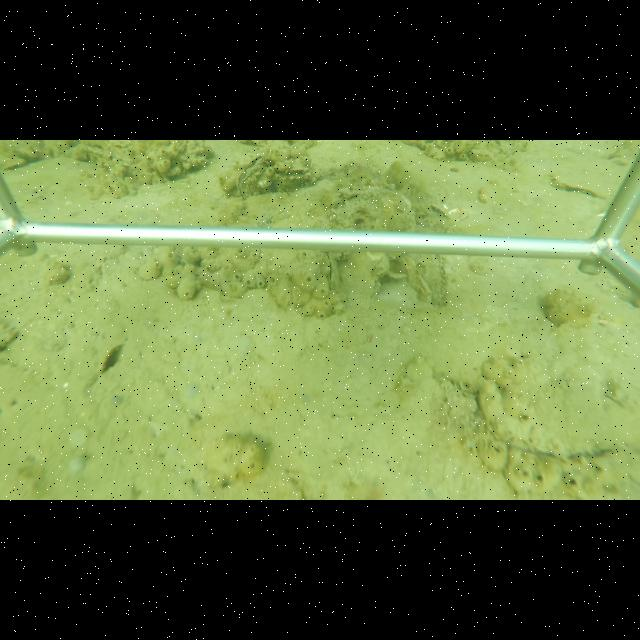Oyster-Closed: (315, 252, 340, 293)
Oyster-Open: (235, 155, 274, 199)
